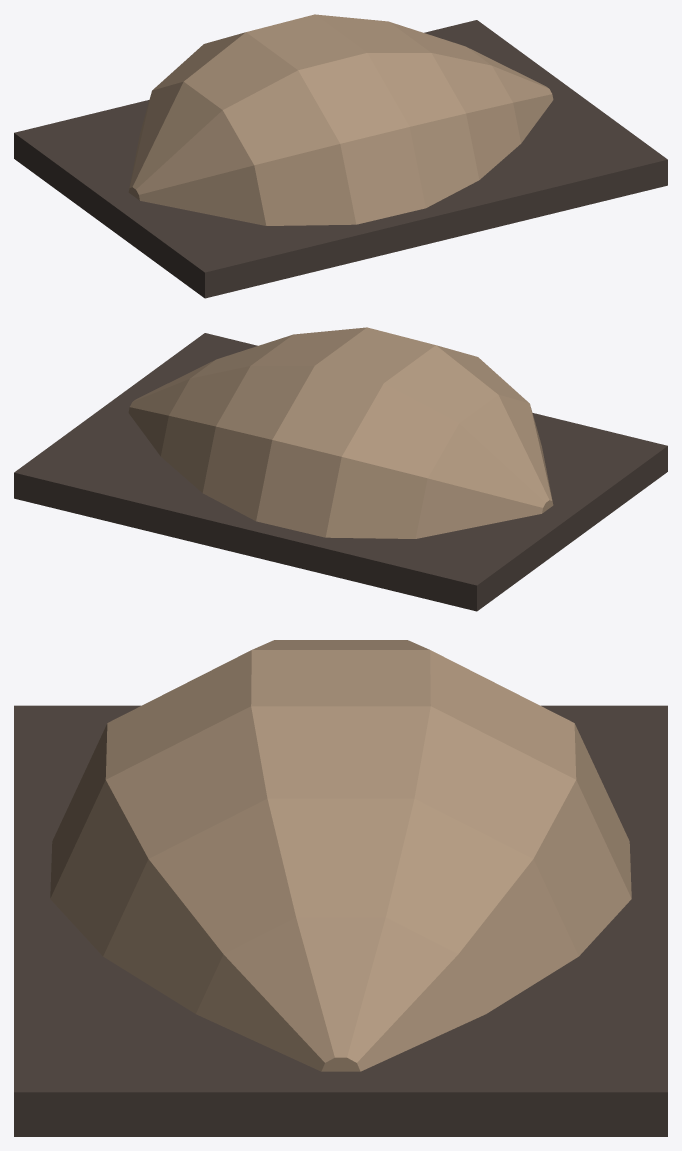
File: prop-lute-mold.fbx
The picture shows the model from 3 angles, top to bottom: view 1: azimuth 30°, elevation 25°; view 2: azimuth 150°, elevation 25°; view 3: azimuth 270°, elevation 25°; orthographic projection. The views are drawn at different scales.
Visible parts, largest first — view 1: prop-lute-mold; view 2: prop-lute-mold; view 3: prop-lute-mold.
Boxes of the visible parts, left/top/right/bottom form: prop-lute-mold: left=14, top=14, right=667, bottom=298; prop-lute-mold: left=14, top=327, right=667, bottom=611; prop-lute-mold: left=14, top=640, right=667, bottom=1136.
Bounding box in the file's own units: 56 × 16.01 × 40.
